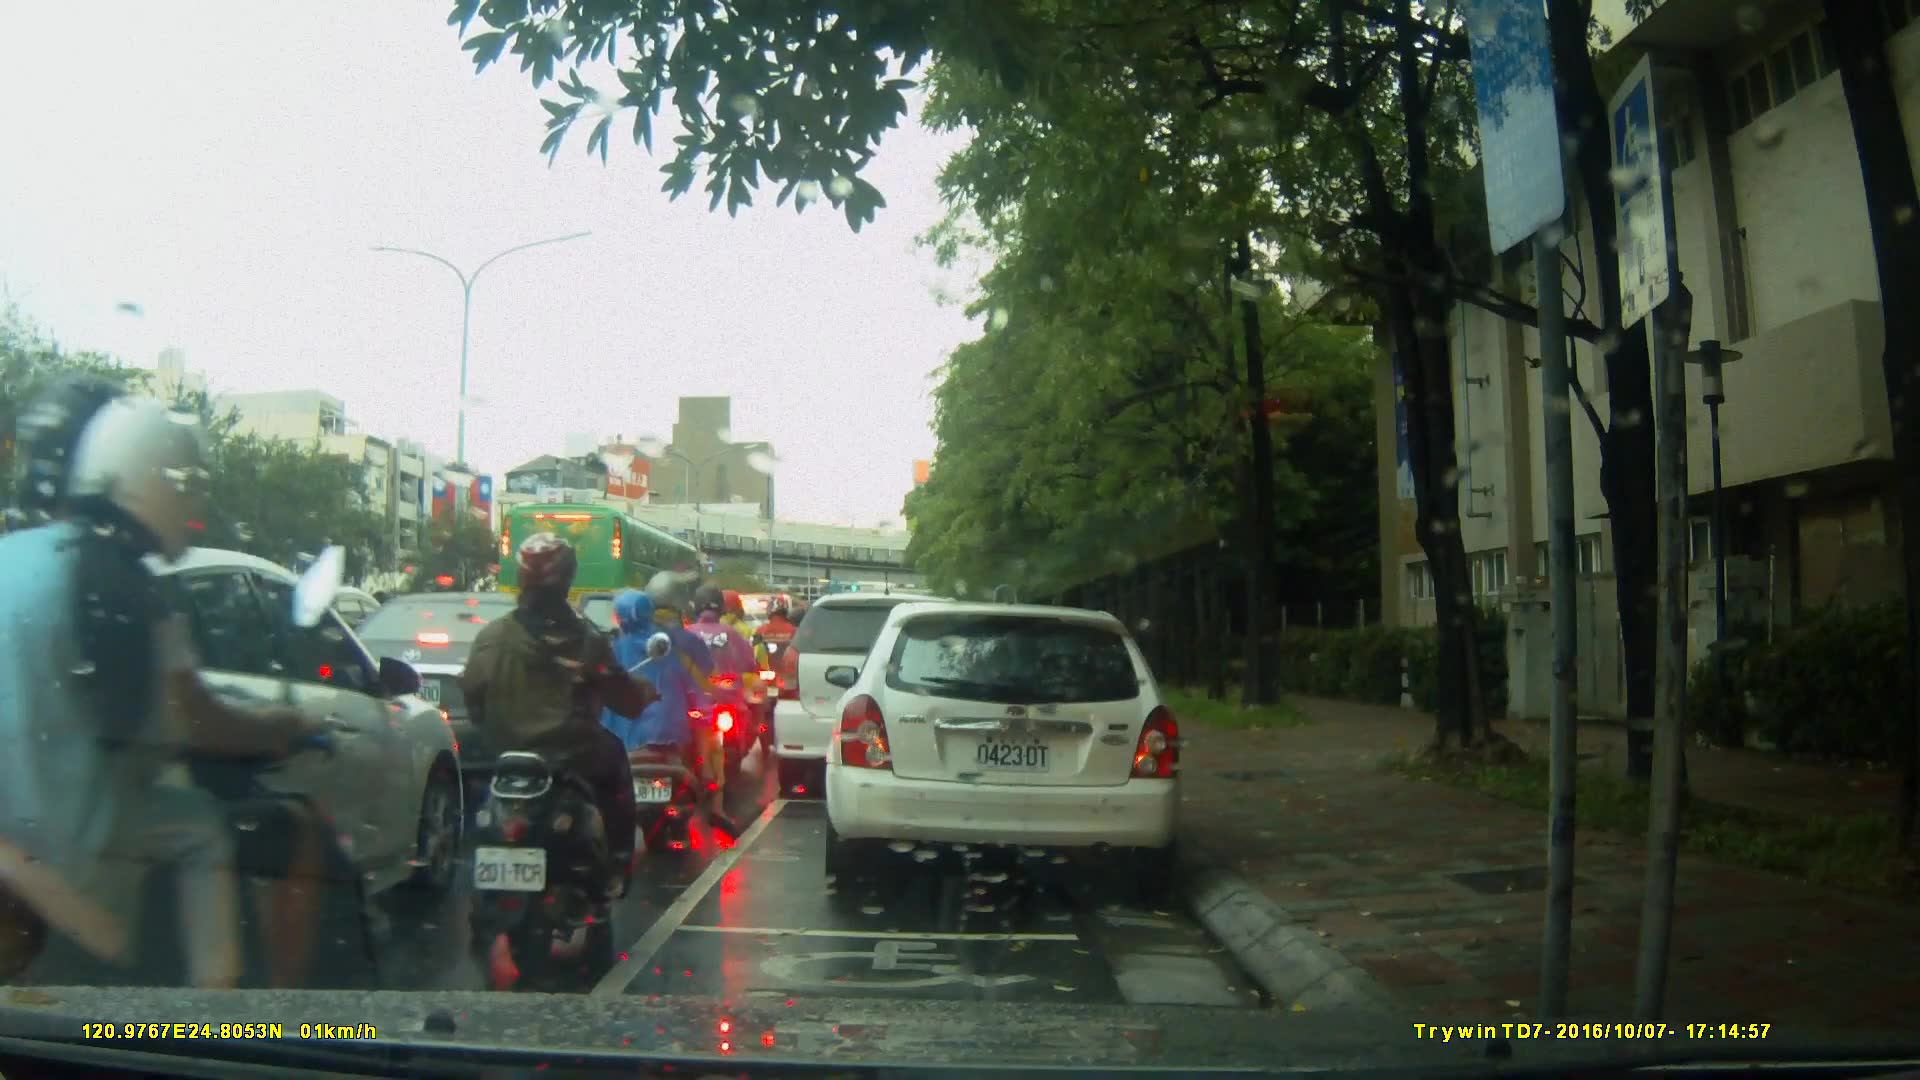rider: (12, 395, 415, 1065), (448, 526, 660, 966), (607, 574, 718, 836), (676, 588, 748, 781), (712, 591, 783, 772), (755, 594, 803, 736)
vehicle: (4, 535, 467, 988), (831, 592, 1196, 897), (312, 589, 629, 776), (771, 590, 999, 804), (501, 503, 709, 636)
